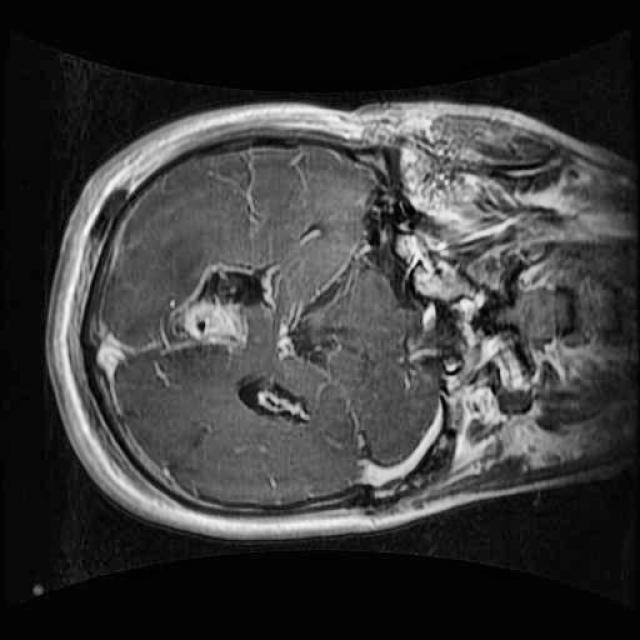Non-Tumor: (155, 248, 296, 368)
